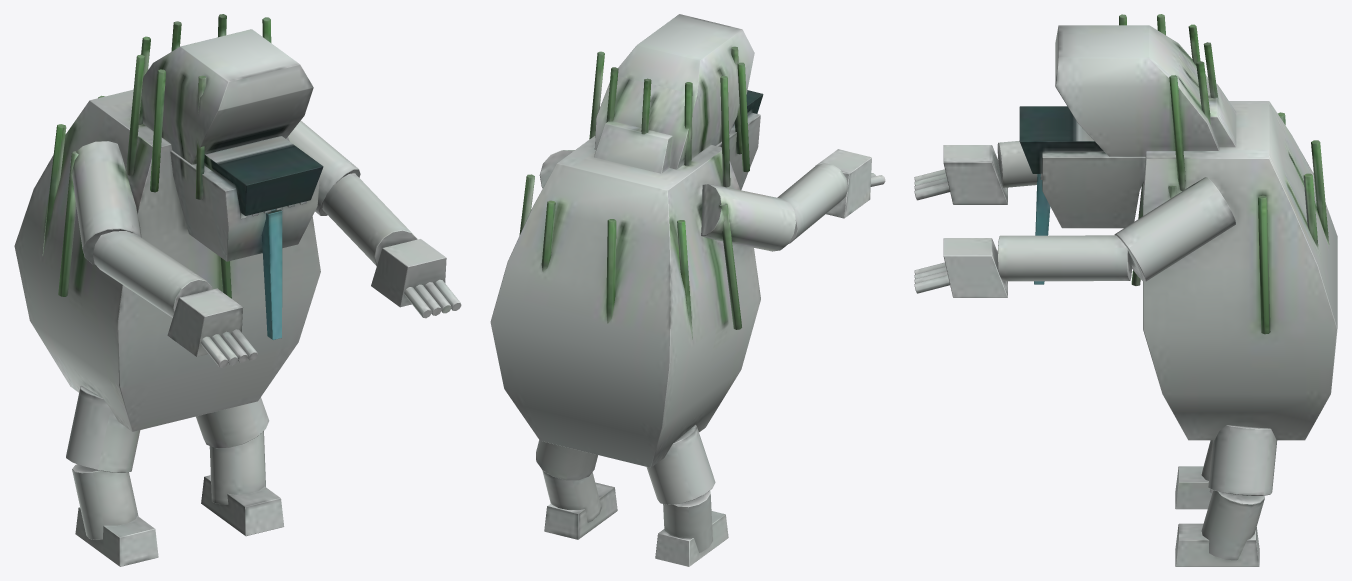
Rendered from MN_drowned.glb.
3 views of the same model, side by side, from view 1: azimuth 30°, elevation 25°; view 2: azimuth 150°, elevation 25°; view 3: azimuth 270°, elevation 25° (orthographic). The views are drawn at different scales.
Parts seen in each view (by area): view 1: MN_drowned; view 2: MN_drowned; view 3: MN_drowned.
Boxes of the visible parts, x1,y1,x2,y2 form: MN_drowned: (14,14,461,566); MN_drowned: (490,14,885,566); MN_drowned: (914,14,1337,566).
Size of the model in its own units: 0.9207 by 1.66 by 1.3.
1 material, 1 textured.
